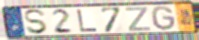2: (49, 9, 74, 34)
7: (101, 6, 122, 34)
G: (150, 5, 178, 32)
L: (75, 8, 99, 33)
S: (22, 8, 49, 35)
Z: (125, 6, 152, 32)
